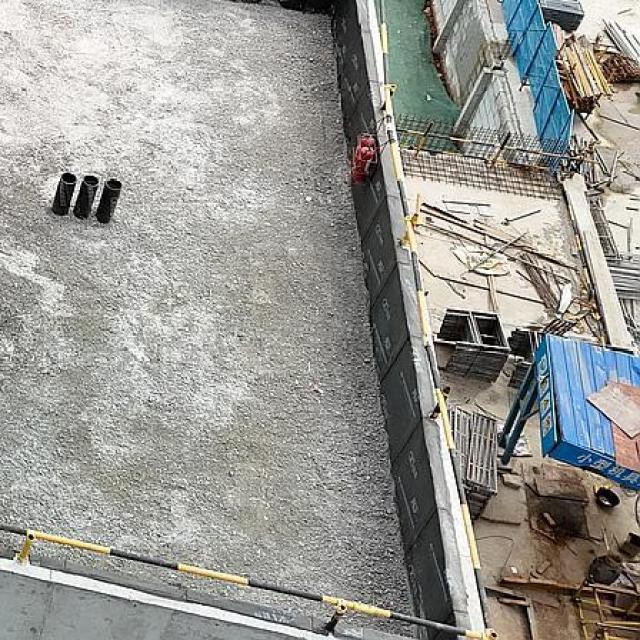edge_guardrail: (0, 0, 500, 640), (396, 120, 570, 173)
